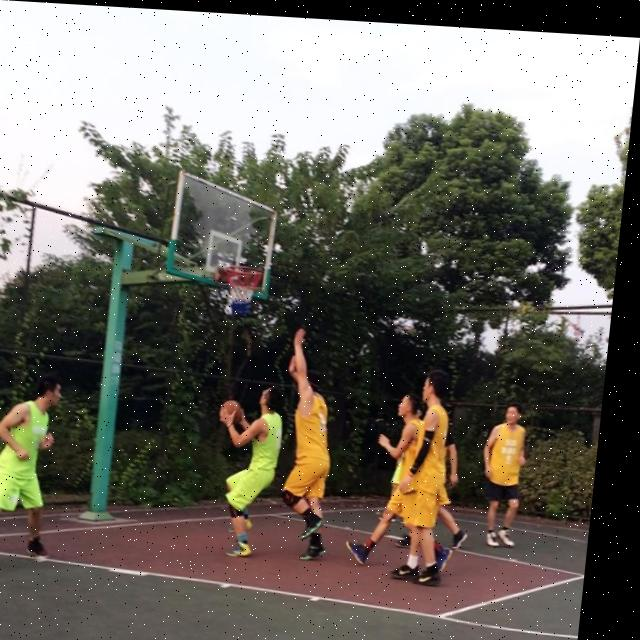basketball: (218, 398, 243, 428)
hoop: (220, 264, 264, 316)
